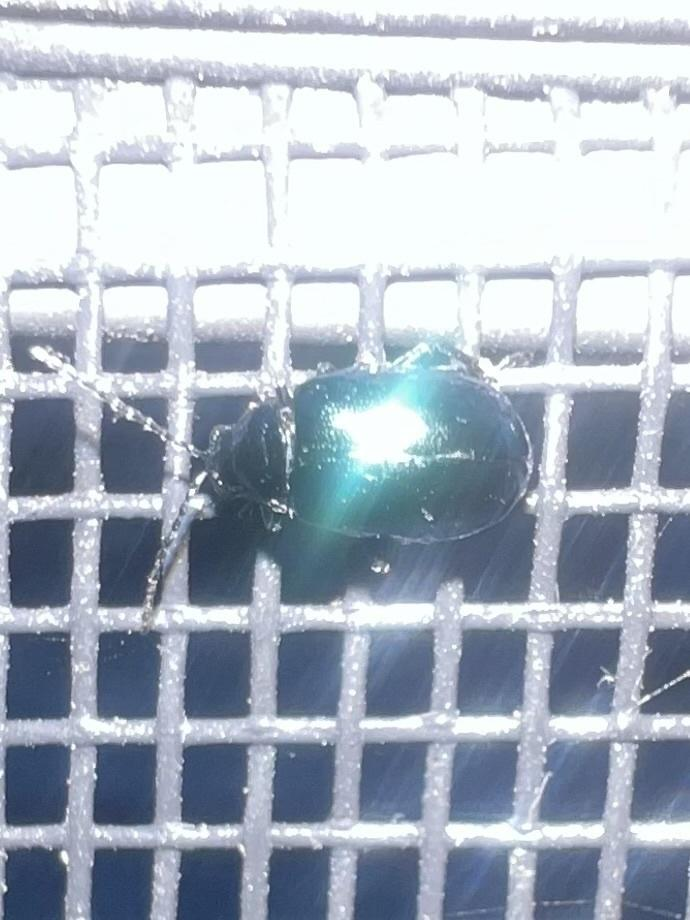flea_beetle: (0, 188, 639, 711)
